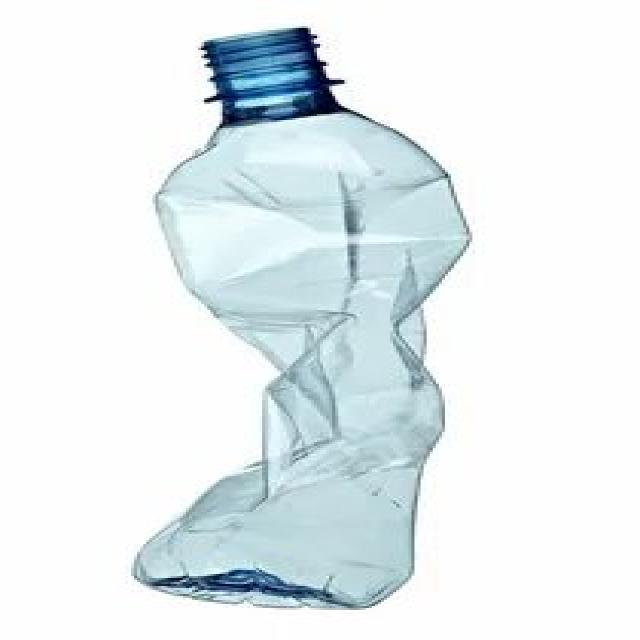blue: (122, 23, 475, 610)
